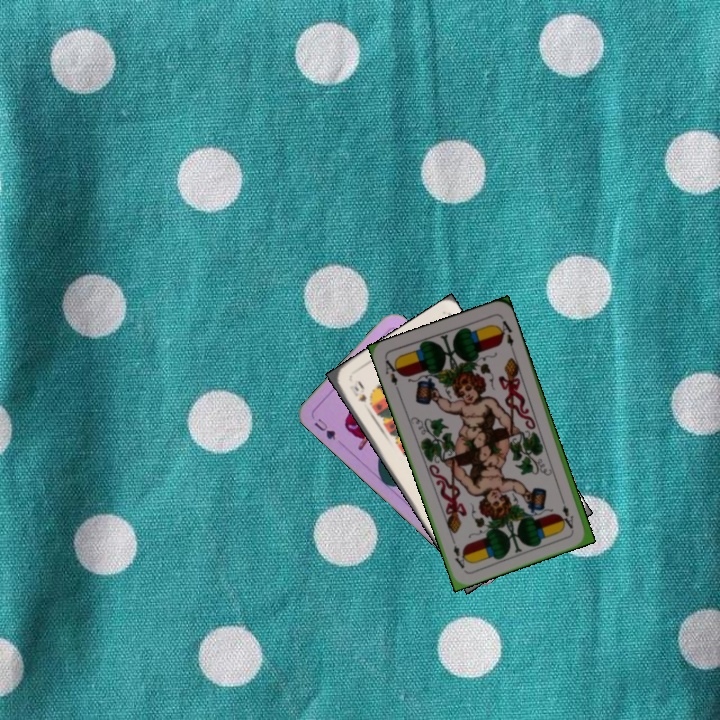EA: (381, 355, 403, 394), (556, 493, 576, 531)
GU: (310, 414, 338, 443)
S10: (345, 381, 369, 405)
